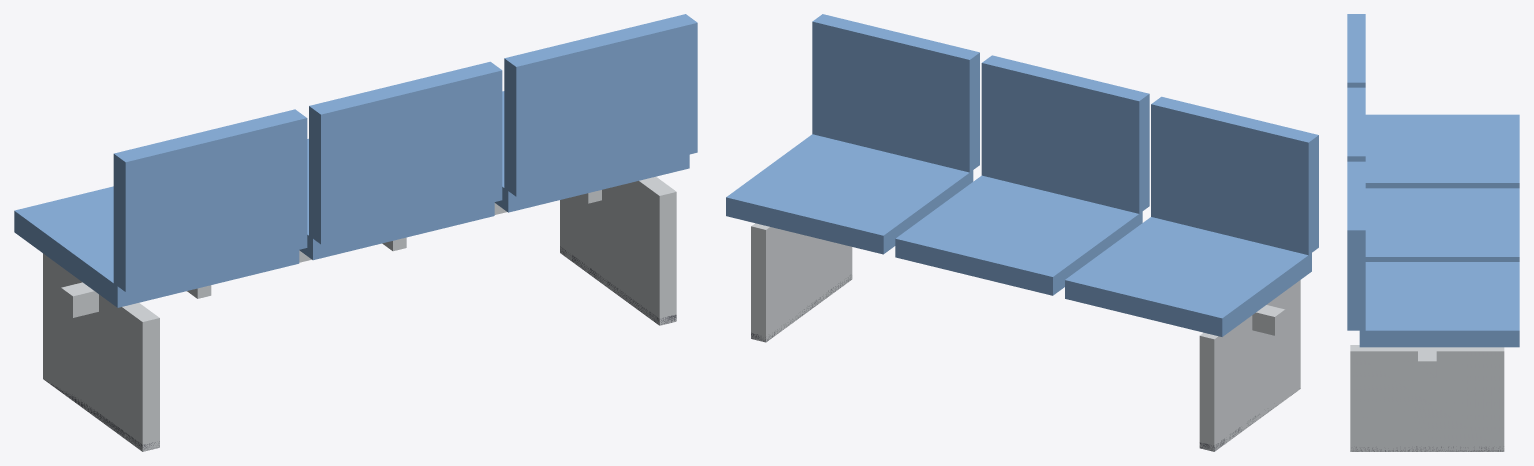
Rendered from sektsiya-stulev.glb.
3 views of the same model, side by side, from view 1: azimuth 30°, elevation 25°; view 2: azimuth 150°, elevation 25°; view 3: azimuth 270°, elevation 25° (orthographic). The views are drawn at different scales.
Size of the model in its own units: 1.7 by 0.82 by 0.56.
